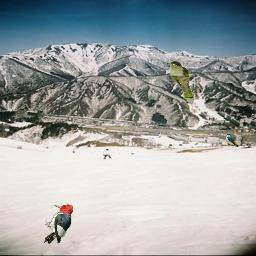Cuckoo: (165, 61, 194, 101)
Swallow: (226, 133, 239, 147)
Woodpecker: (43, 204, 73, 244)
